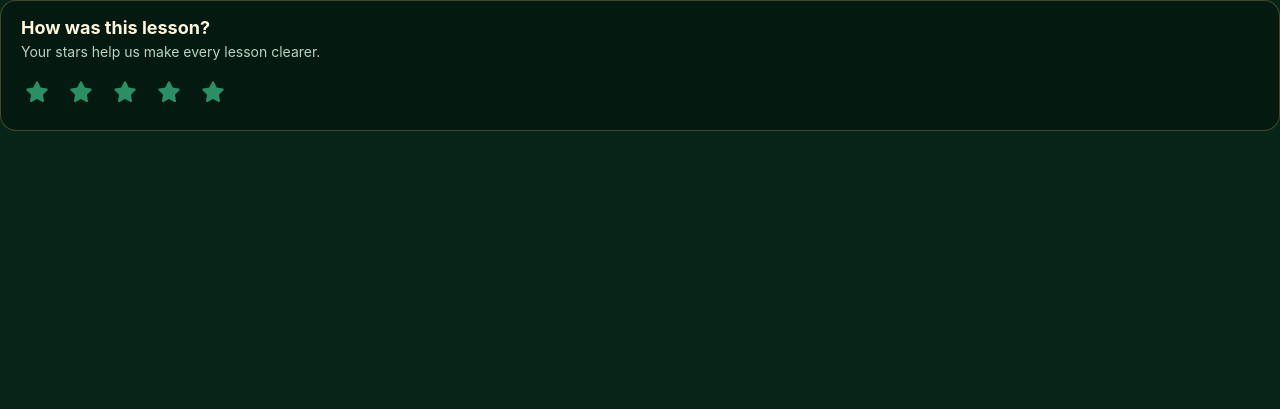
RatingPrompt › shows the server error and lets the learner retry once more
Click the radio button named "2 out of 5 stars".
click(81, 92)  # box [59, 70, 103, 114]
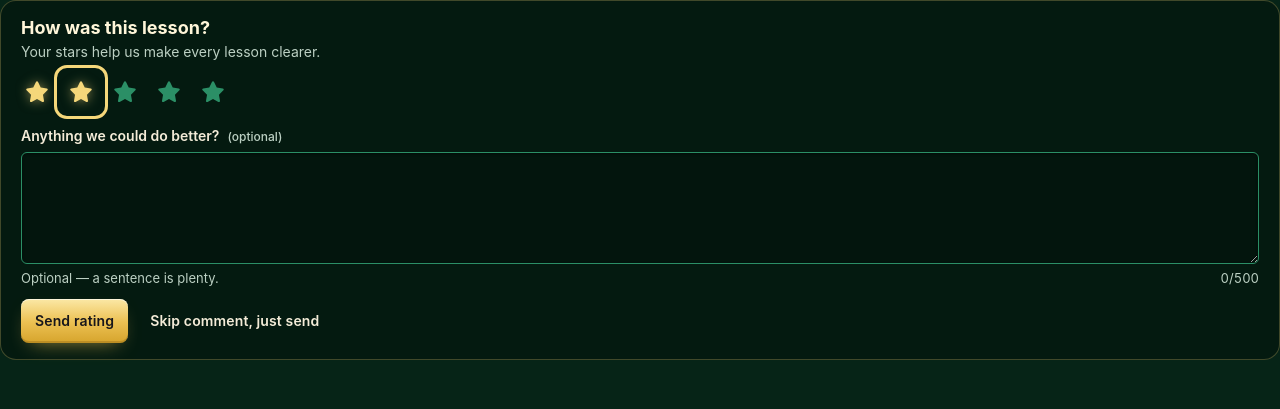
Click the button "Send rating".
click(75, 321)  # box [21, 299, 128, 343]
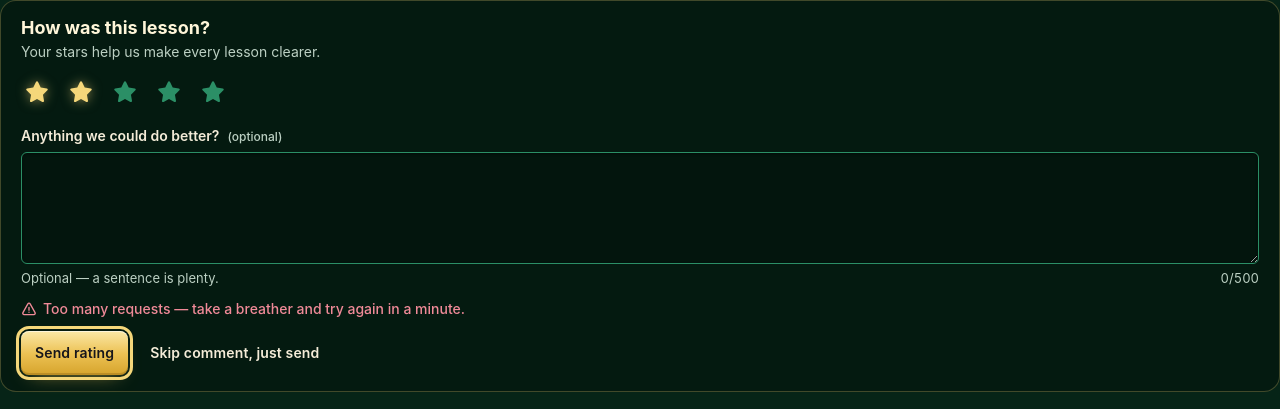
Check: the message shows "Too many requests", box [43, 300, 465, 317]
Click the button "Send rating".
click(75, 353)  # box [21, 331, 128, 375]
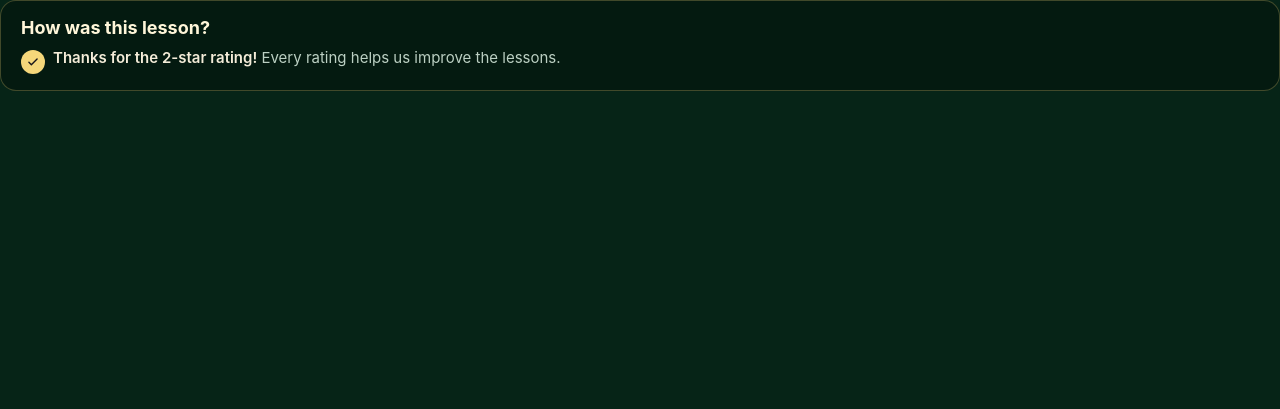
Check: the text "Thanks for the 2-star rating!" is shown, box [53, 48, 257, 66]
